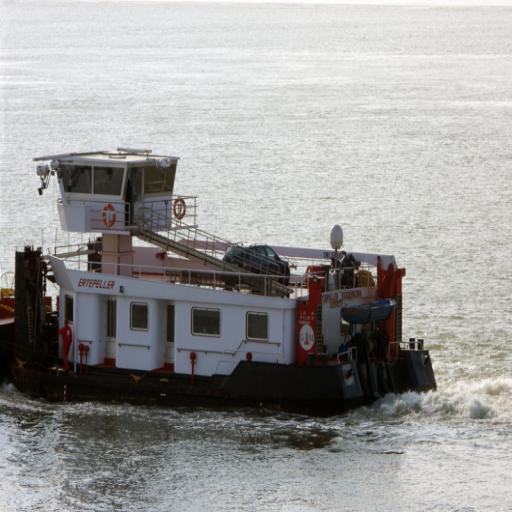tugboat: (11, 142, 441, 430)
